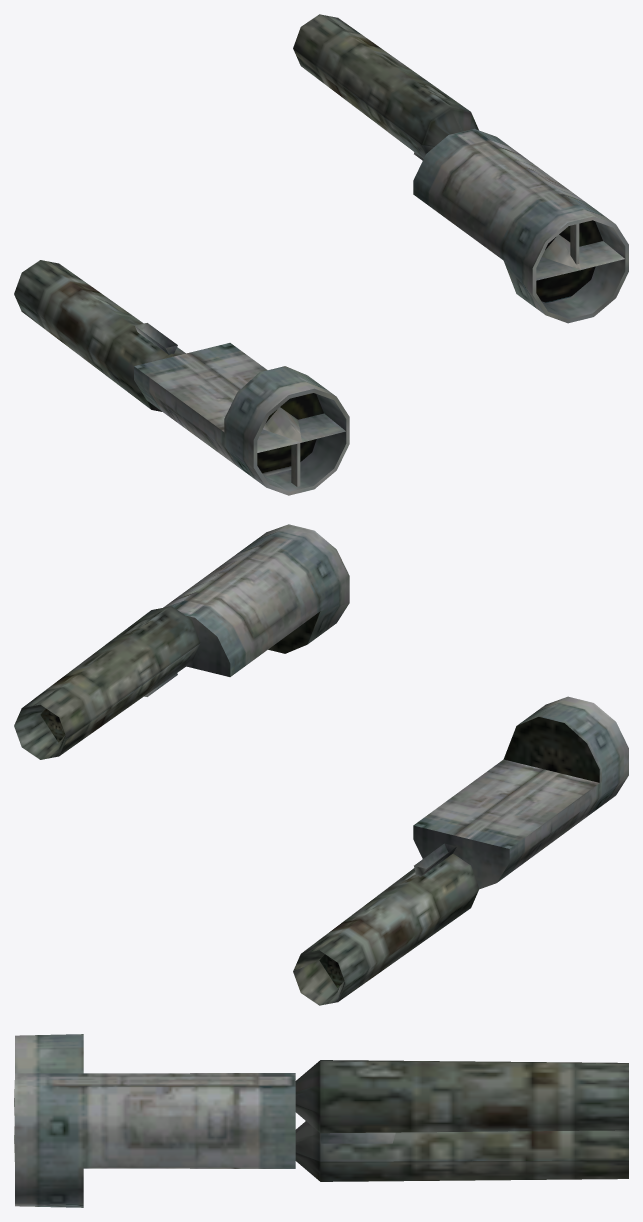
File: xwing_engine_neg_s01_l1.fbx
The picture shows the model from 3 angles, top to bottom: view 1: azimuth 30°, elevation 25°; view 2: azimuth 150°, elevation 25°; view 3: azimuth 270°, elevation 25°; orthographic projection. The views are drawn at different scales.
Visible parts, largest first — view 1: mesh_node; view 2: mesh_node; view 3: mesh_node.
Boxes of the visible parts, bbox=[...] form: mesh_node: bbox=[14, 14, 628, 495]; mesh_node: bbox=[14, 524, 628, 1005]; mesh_node: bbox=[14, 1034, 628, 1207].
Bounding box in the file's own units: 4.7 × 2.84 × 5.67.
Materials: 1 (1 with a texture image).
